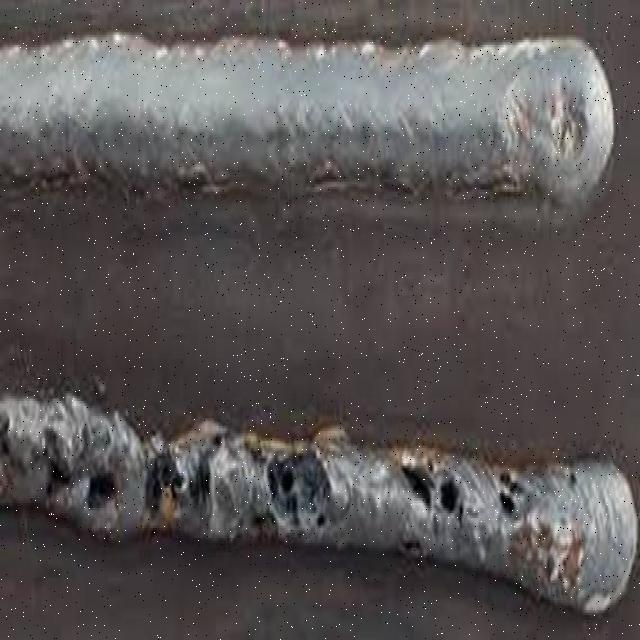Porosity: (138, 446, 216, 524), (259, 453, 332, 534), (393, 450, 467, 529), (42, 438, 76, 513), (82, 458, 119, 525), (490, 466, 527, 528)
